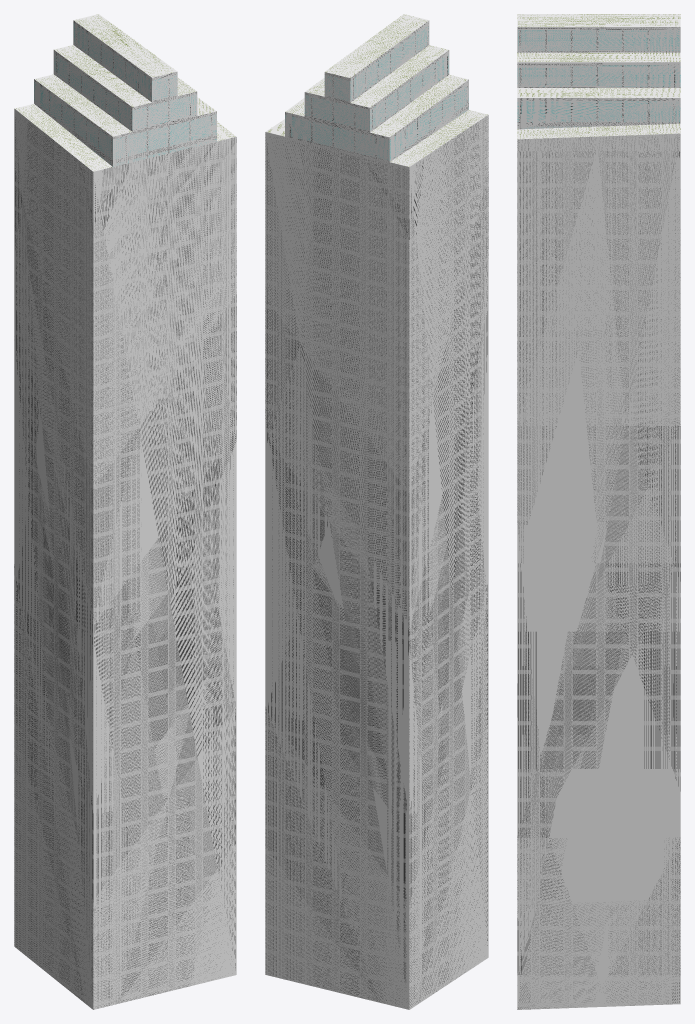
Rendered from Building_2.fbx.
3 views of the same model, side by side, from view 1: azimuth 30°, elevation 25°; view 2: azimuth 150°, elevation 25°; view 3: azimuth 270°, elevation 25° (orthographic). The views are drawn at different scales.
Parts seen in each view (by area): view 1: Group1; view 2: Group1; view 3: Group1.
Boxes of the visible parts, bbox=[...] form: Group1: bbox=[14, 14, 236, 1009]; Group1: bbox=[265, 14, 488, 1009]; Group1: bbox=[517, 14, 680, 1009].
Size of the model in its own units: 210 by 1287 by 200.
